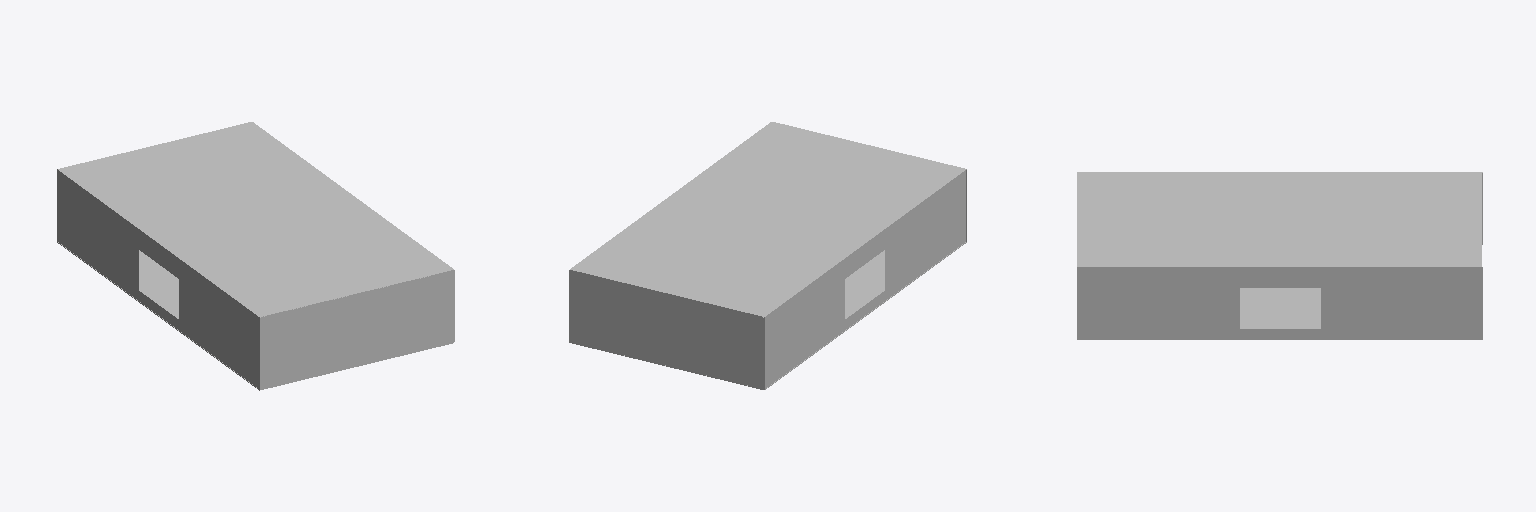
Rendered from MuseoJumexSegundoPiso.obj.
The picture shows the model from 3 angles: view 1: azimuth 30°, elevation 25°; view 2: azimuth 150°, elevation 25°; view 3: azimuth 270°, elevation 25°; orthographic projection.
Visible parts, largest first — view 1: Cube.003; view 2: Cube.003; view 3: Cube.003.
Boxes of the visible parts, x1,y1,x2,y2 form: Cube.003: [57, 122, 454, 390]; Cube.003: [569, 122, 966, 389]; Cube.003: [1077, 172, 1482, 339].
Bounding box in the file's own units: 50.21 × 17.99 × 90.17.